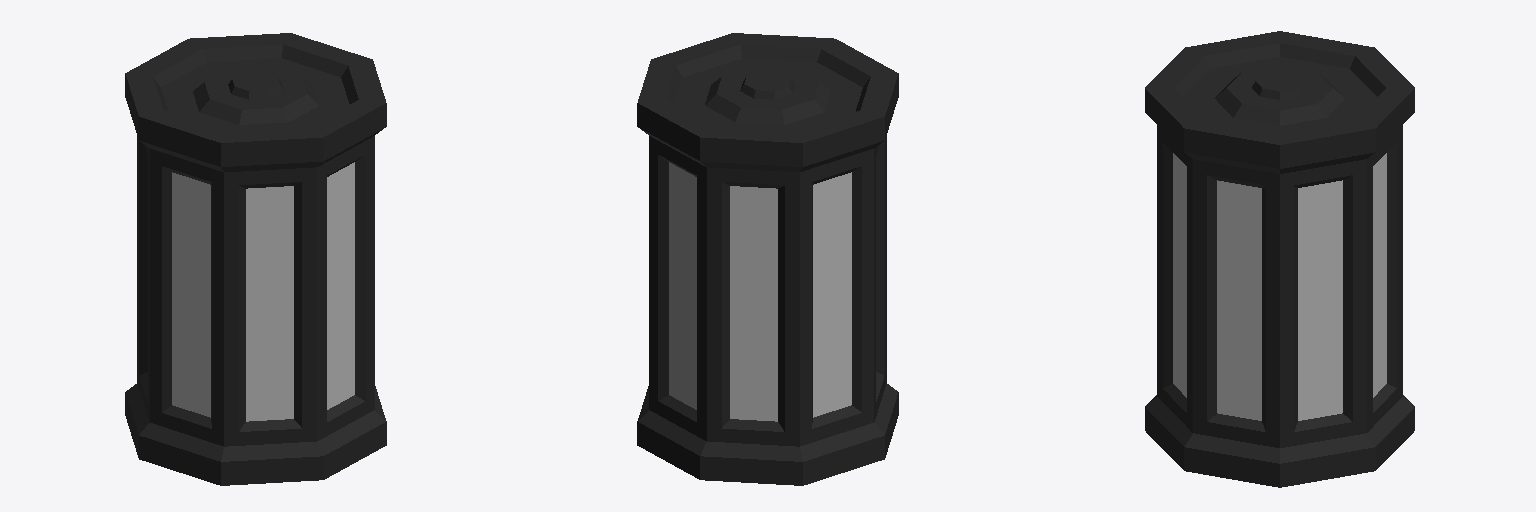
Rendered from Barrel_Large.obj.
3 views of the same model, side by side, from view 1: azimuth 30°, elevation 25°; view 2: azimuth 150°, elevation 25°; view 3: azimuth 270°, elevation 25° (orthographic).
Parts seen in each view (by area): view 1: Barrel_Large.obj; view 2: Barrel_Large.obj; view 3: Barrel_Large.obj.
Part boxes in pixels (x1,y1,x2,y2): Barrel_Large.obj: (125, 33, 386, 485); Barrel_Large.obj: (637, 33, 898, 485); Barrel_Large.obj: (1145, 31, 1414, 487).
Bounding box in the file's own units: 1.43 × 2.04 × 1.43.